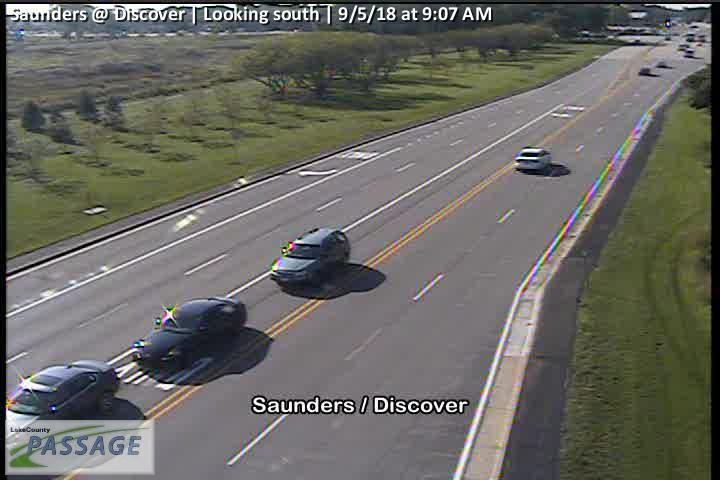SUV: (270, 227, 350, 285), (683, 48, 695, 56)
Sedan: (6, 359, 119, 455), (132, 296, 247, 367), (515, 147, 551, 173), (640, 66, 650, 75), (678, 44, 689, 51), (656, 60, 665, 67)
